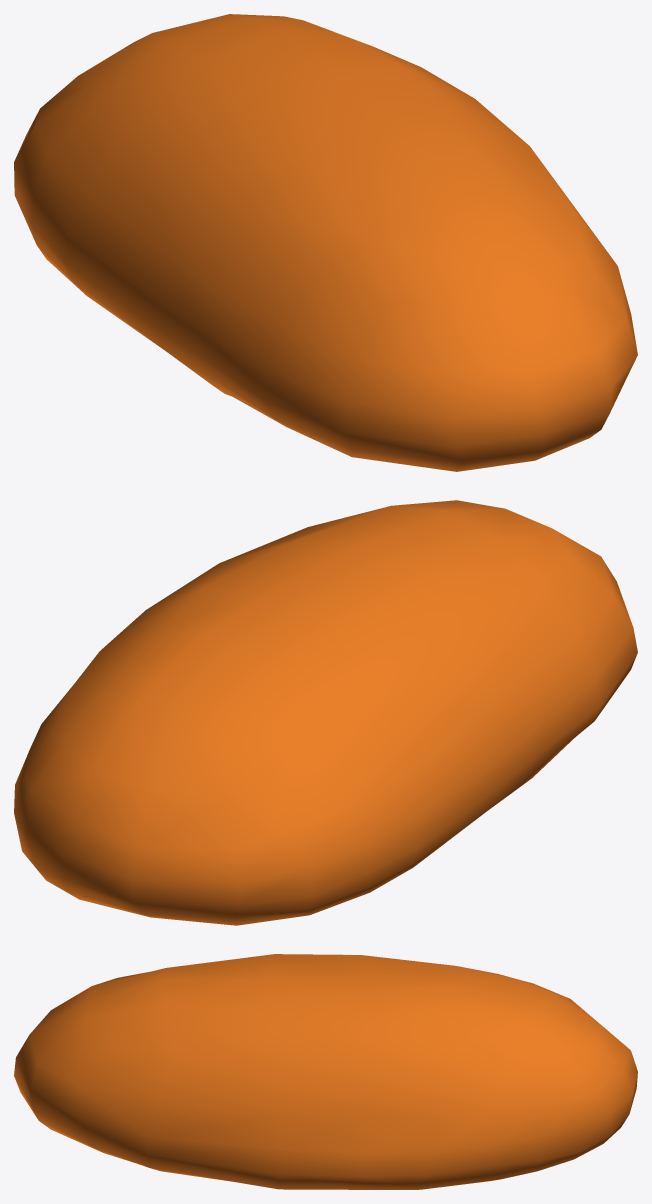
Rendered from Bread.FBX.
3 renders of one model, top to bottom at view 1: azimuth 30°, elevation 25°; view 2: azimuth 150°, elevation 25°; view 3: azimuth 270°, elevation 25°, orthographic. The views are drawn at different scales.
Parts seen in each view (by area): view 1: RetopoGroup1; view 2: RetopoGroup1; view 3: RetopoGroup1.
Part boxes in pixels (x1,y1,x2,y2): RetopoGroup1: [14, 14, 637, 471]; RetopoGroup1: [14, 500, 637, 925]; RetopoGroup1: [14, 954, 637, 1189].
Size of the model in its own units: 64.4 by 34.85 by 124.
